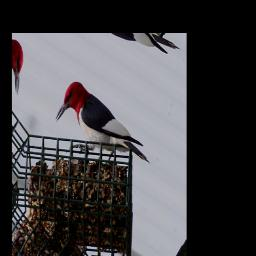Woodpecker: (52, 73, 158, 194)
